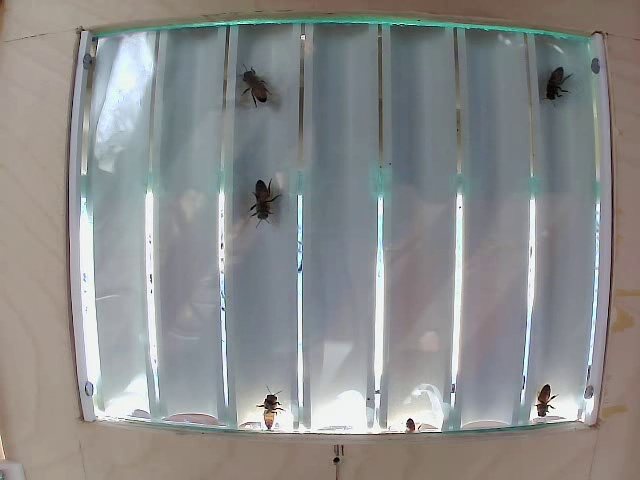bee: (243, 61, 280, 110), (260, 179, 290, 220), (250, 392, 289, 423), (539, 74, 568, 106)
